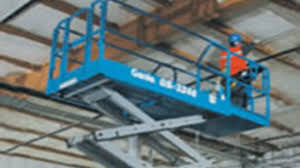Scissor Lift: (44, 2, 275, 167)
